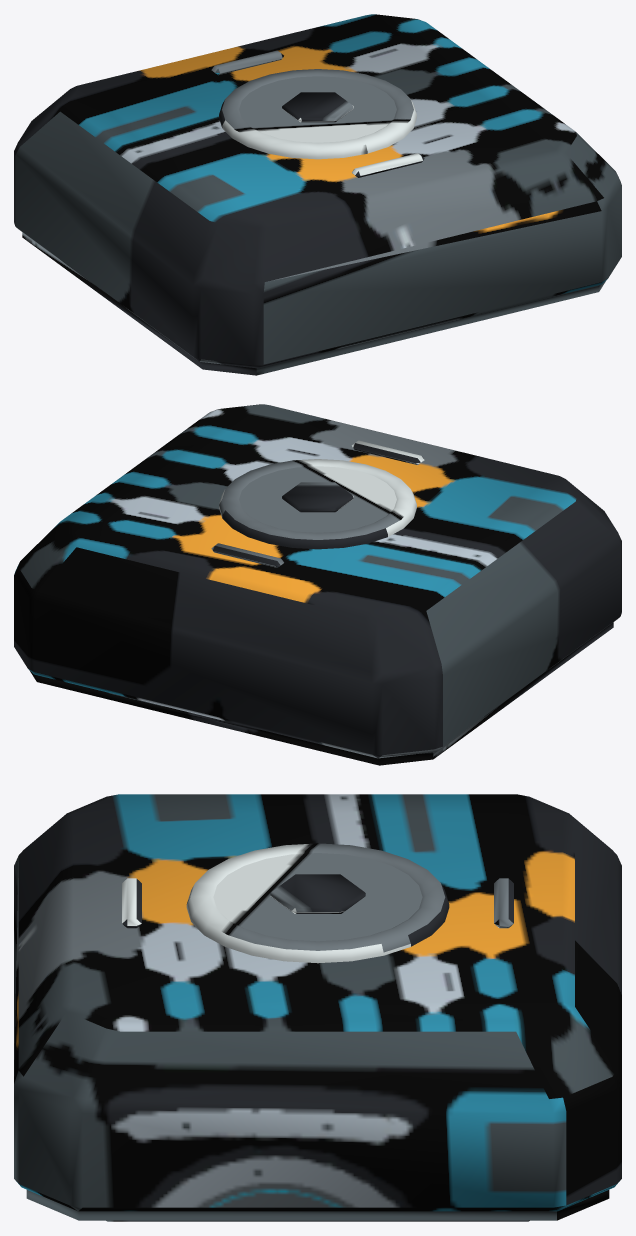
File: S07_Lid_LOD0.obj
3 renders of one model, top to bottom at view 1: azimuth 30°, elevation 25°; view 2: azimuth 150°, elevation 25°; view 3: azimuth 270°, elevation 25°, orthographic. The views are drawn at different scales.
Visible parts, largest first — view 1: S07_Lid_LOD0.001; view 2: S07_Lid_LOD0.001; view 3: S07_Lid_LOD0.001.
Part boxes in pixels (<box>): S07_Lid_LOD0.001: <box>14,14,621,375</box>; S07_Lid_LOD0.001: <box>14,404,621,765</box>; S07_Lid_LOD0.001: <box>14,794,621,1221</box>.
Size of the model in its own units: 1.13 by 0.4025 by 1.05.
